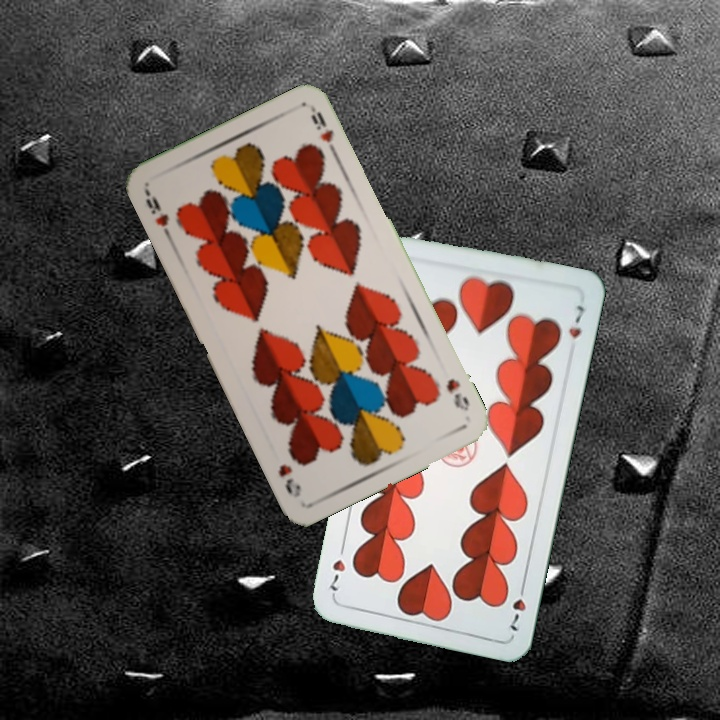H7: (505, 578, 529, 634)
H9: (141, 187, 175, 242), (442, 374, 473, 414)
